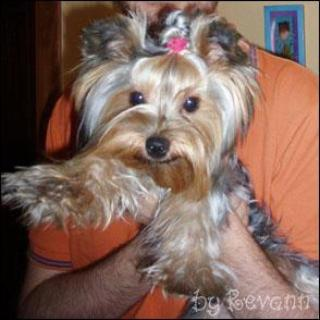dog: (74, 20, 257, 186)
nose: (144, 132, 173, 162)
